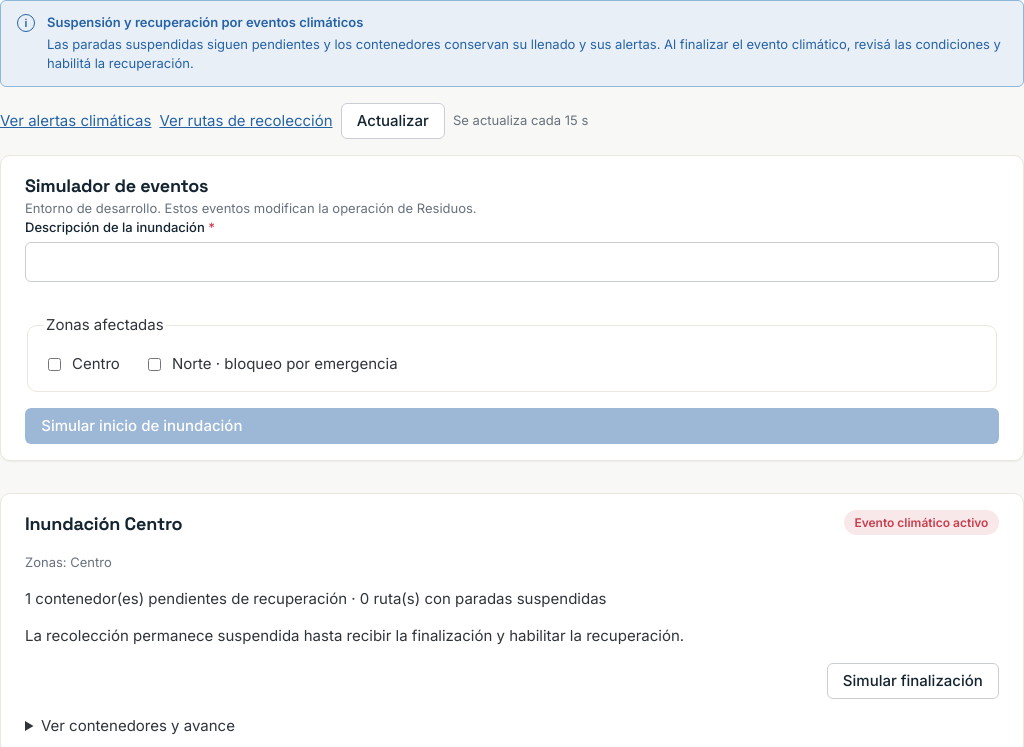
Test: Inundaciones › si falla una accion conserva la contingencia y muestra el error
Click the button "Simular finalización" at (913,681), box [827,663,999,699]
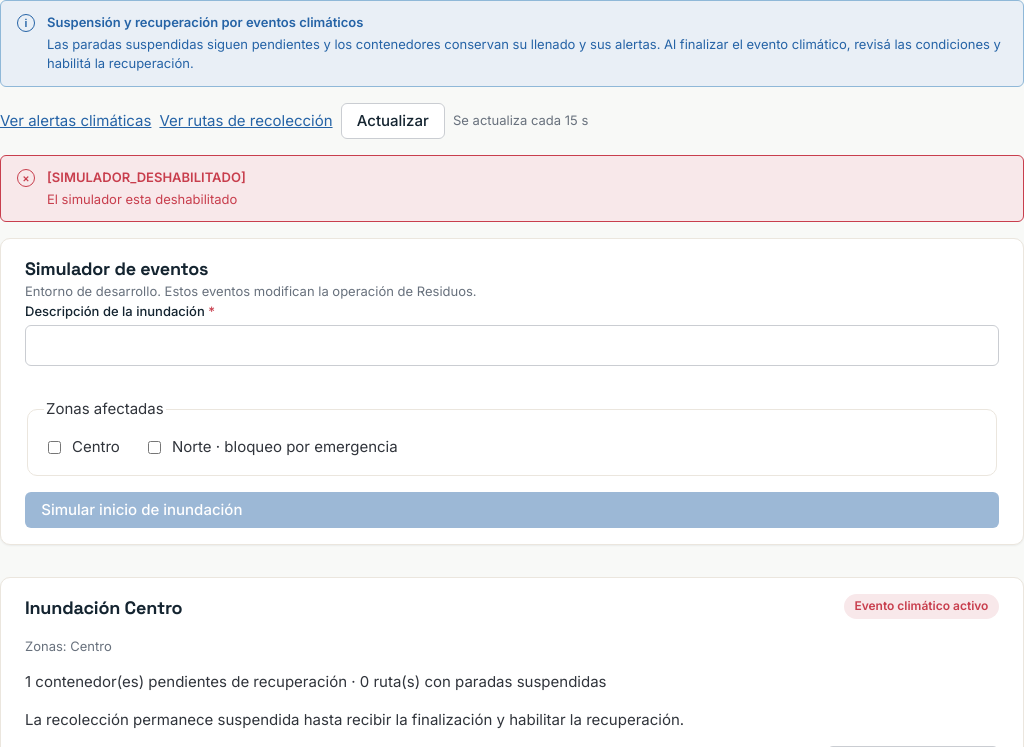
Check: the text "Evento climático activo" is shown, box [844,594,999,619]
Check: the text "[SIMULADOR_DESHABILITADO]" is shown, box [47,168,246,187]
